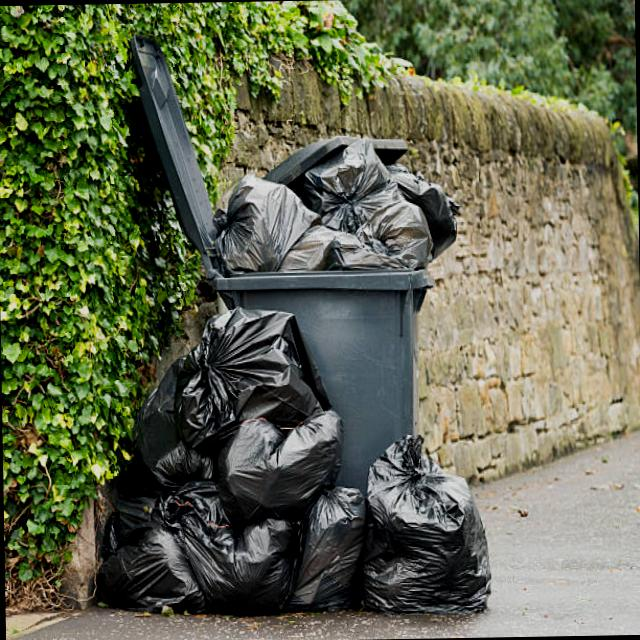garbage: (91, 102, 502, 632)
